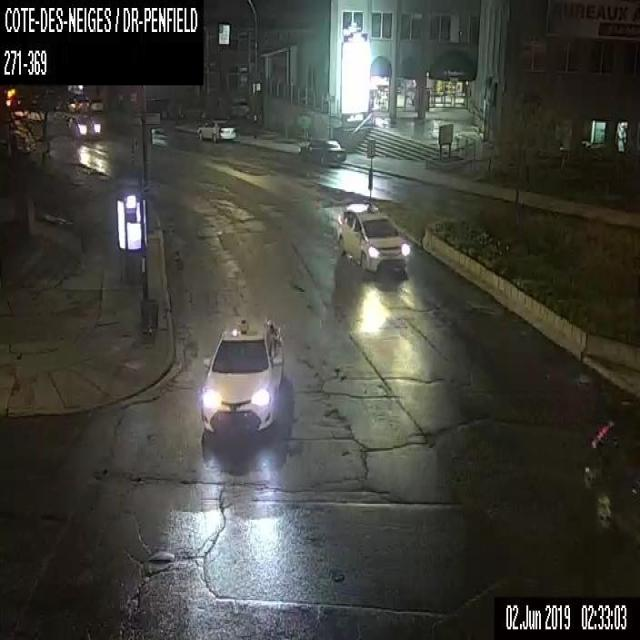vehicle: (198, 312, 286, 440), (579, 405, 639, 547), (338, 202, 408, 274), (298, 136, 345, 164), (196, 117, 237, 143), (67, 111, 102, 141), (68, 95, 90, 112), (90, 96, 103, 110)
